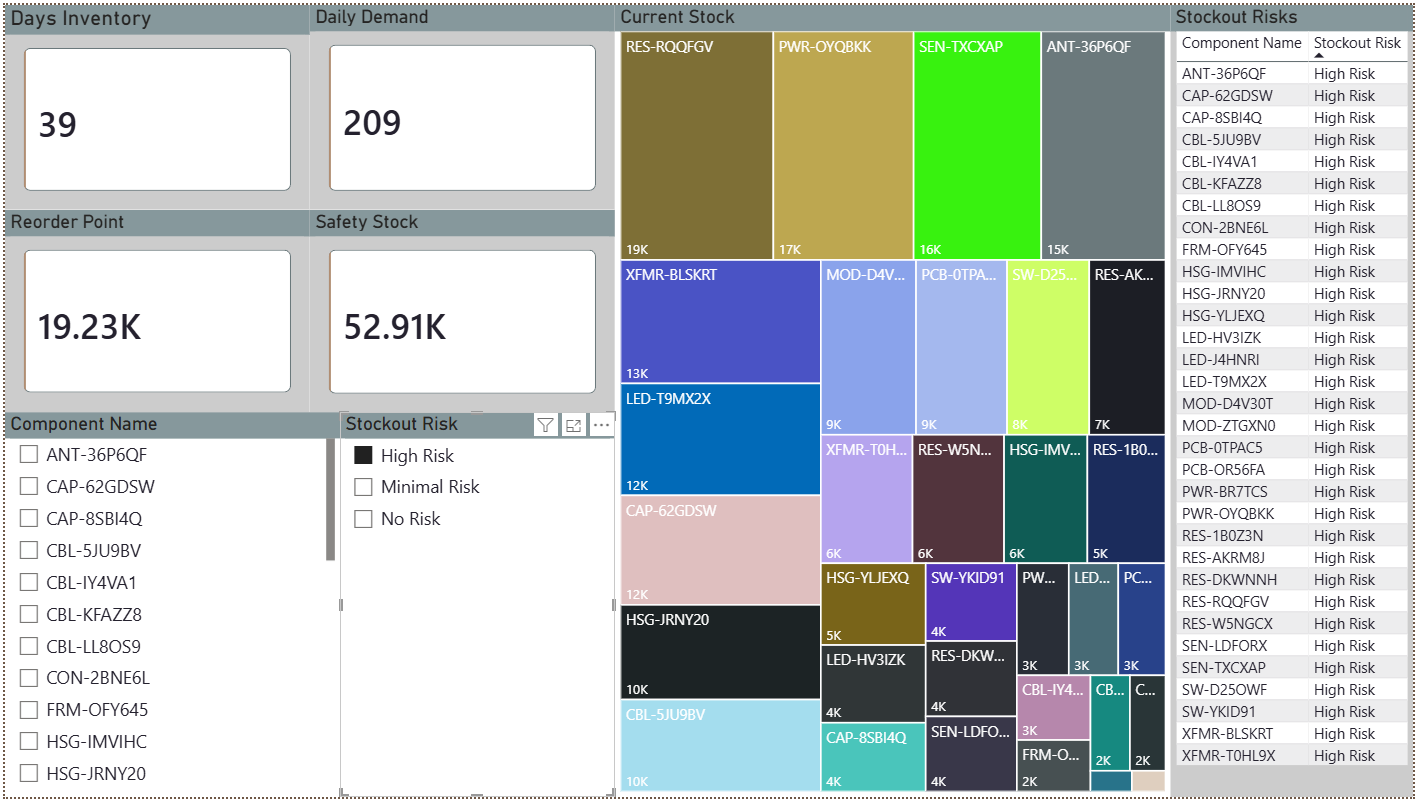

Layout of this report page (visuals, bound fields, positions):
{"tool":"powerbi","page":{"name":"Stock","canvas":[1280,720],"ordinal":0},"visuals":[{"type":"tableEx","title":"Stockout Risks","fields":{"Values":["Sheet1.Component Name","Sheet1.Stockout Risk"]},"box":[1058.8,0,221.2,719.8],"z":0},{"type":"cardVisual","title":"Days Inventory","fields":{"Data":["Avg(Sheet1.Days Inventory)"]},"box":[0,0,277.3,186.4],"z":1000},{"type":"slicer","title":"Component Name","fields":{"Values":["Sheet1.Component Name"]},"box":[0,370,304.5,350],"z":2000},{"type":"cardVisual","title":"Daily Demand","fields":{"Data":["Avg(Sheet1.Daily Demand)"]},"box":[277.3,0,277.3,186.4],"z":3000},{"type":"slicer","title":"Stockout Risk","fields":{"Values":["Sheet1.Stockout Risk"]},"box":[304.5,370,250,350],"z":4000},{"type":"treemap","title":"Current Stock","fields":{"Group":["Sheet1.Component Name"],"Values":["Sum(Sheet1.Current Stock)"]},"box":[554.5,0,505.5,720],"z":5000},{"type":"cardVisual","title":"Reorder Point","fields":{"Data":["Avg(Sheet1.Reorder Point)"]},"box":[0,186.4,277.3,183.6],"z":6000},{"type":"cardVisual","title":"Safety Stock","fields":{"Data":["Sum(Sheet1.Safety Stock)"]},"box":[277,186,277,184],"z":7000}]}

Visuals, with their boxes in screenshot pixels (x1, y1, x2, y2), scaled from the page's 1280x720 canvas onto the 1419x801 screenshot:
"Stockout Risks" tableEx: [1174, 0, 1418, 800]
"Days Inventory" cardVisual: [0, 0, 307, 207]
"Component Name" slicer: [0, 412, 338, 800]
"Daily Demand" cardVisual: [307, 0, 615, 207]
"Stockout Risk" slicer: [338, 412, 615, 800]
"Current Stock" treemap: [615, 0, 1175, 800]
"Reorder Point" cardVisual: [0, 207, 307, 412]
"Safety Stock" cardVisual: [307, 207, 614, 412]
